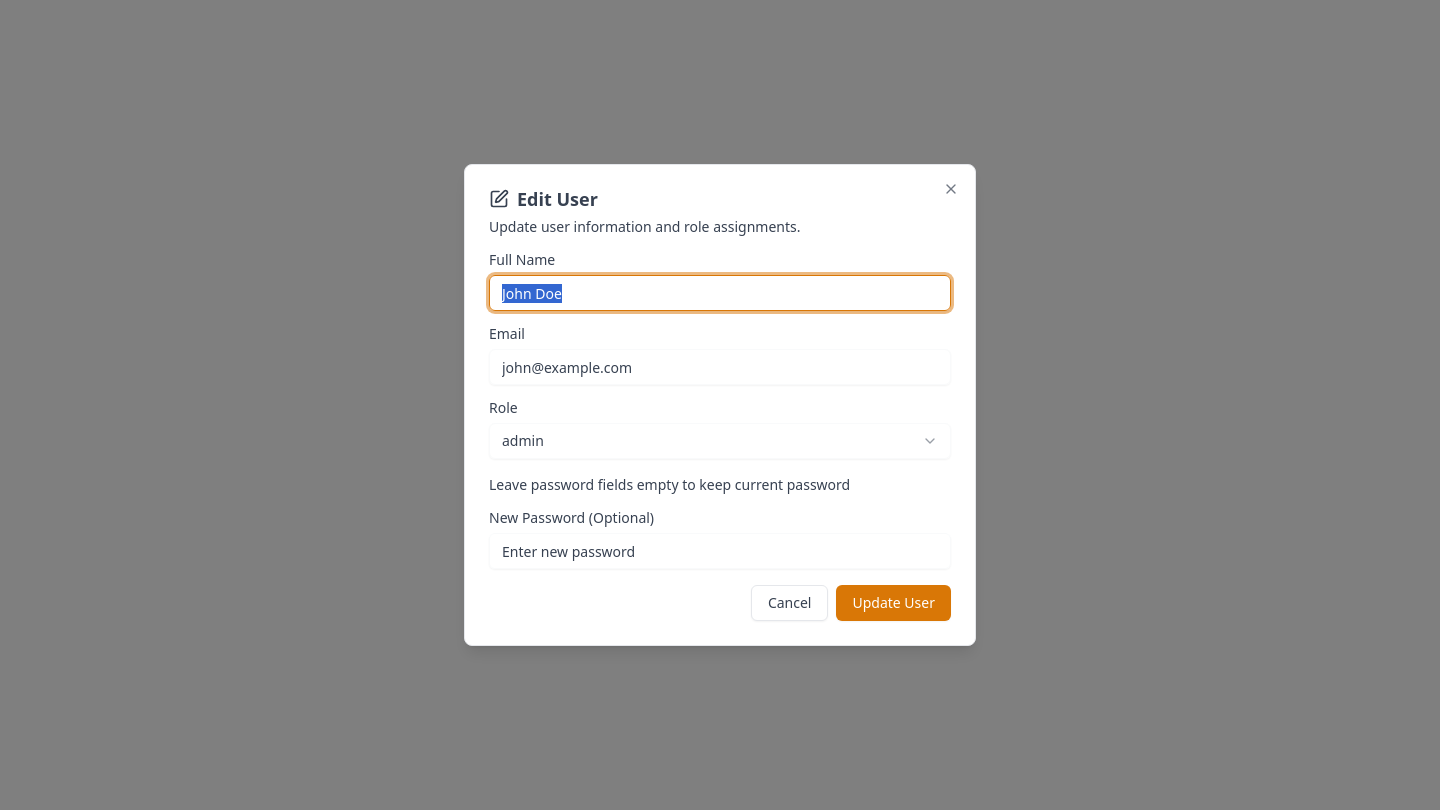
it: EditUserModal Component › validates required fields
Clear the field showing "John Doe" at [720, 293], box [489,275,951,311]
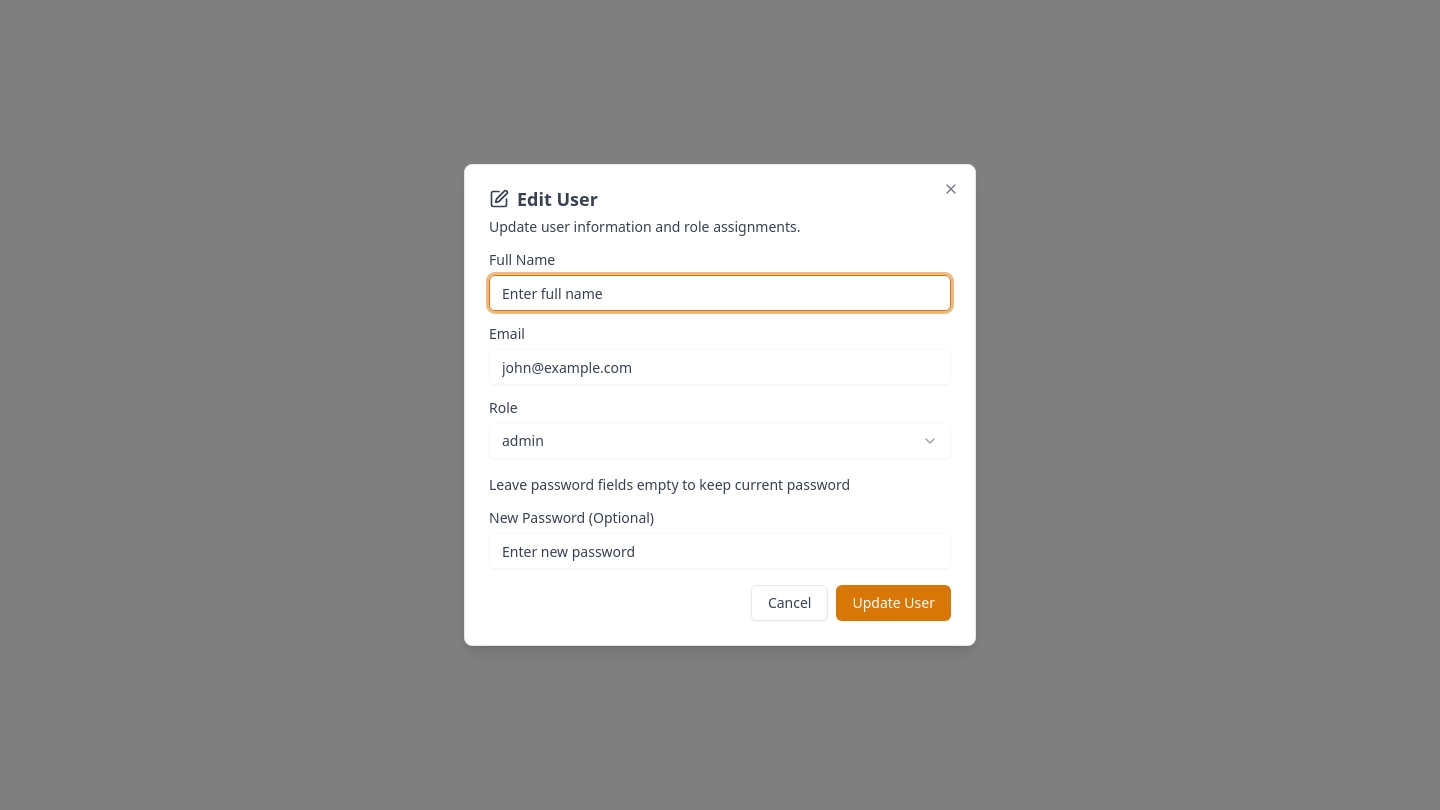
Clear the field showing "john@example.com" at [720, 367], box [489,349,951,385]
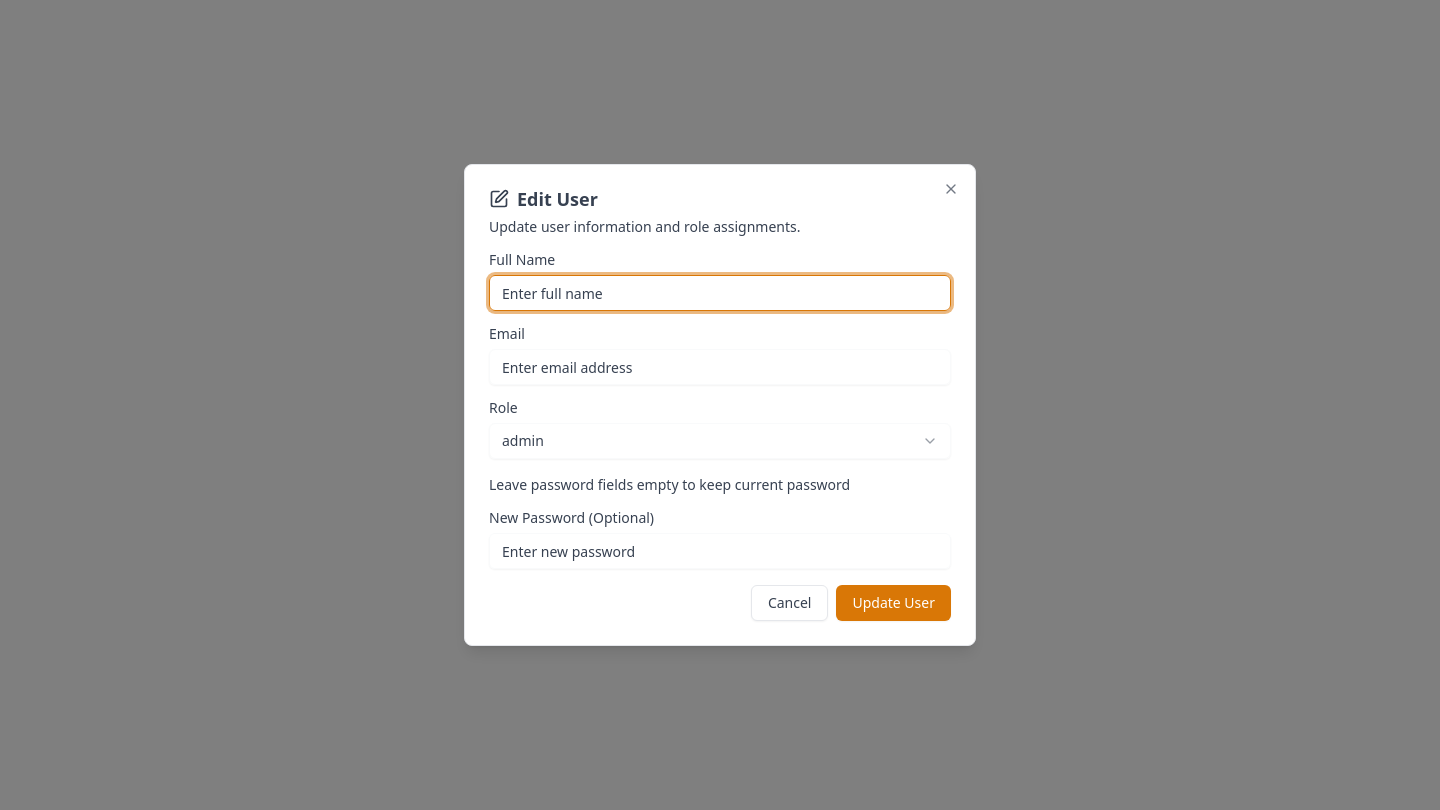
Click the button "Update User" at [894, 603], box [836,585,951,621]
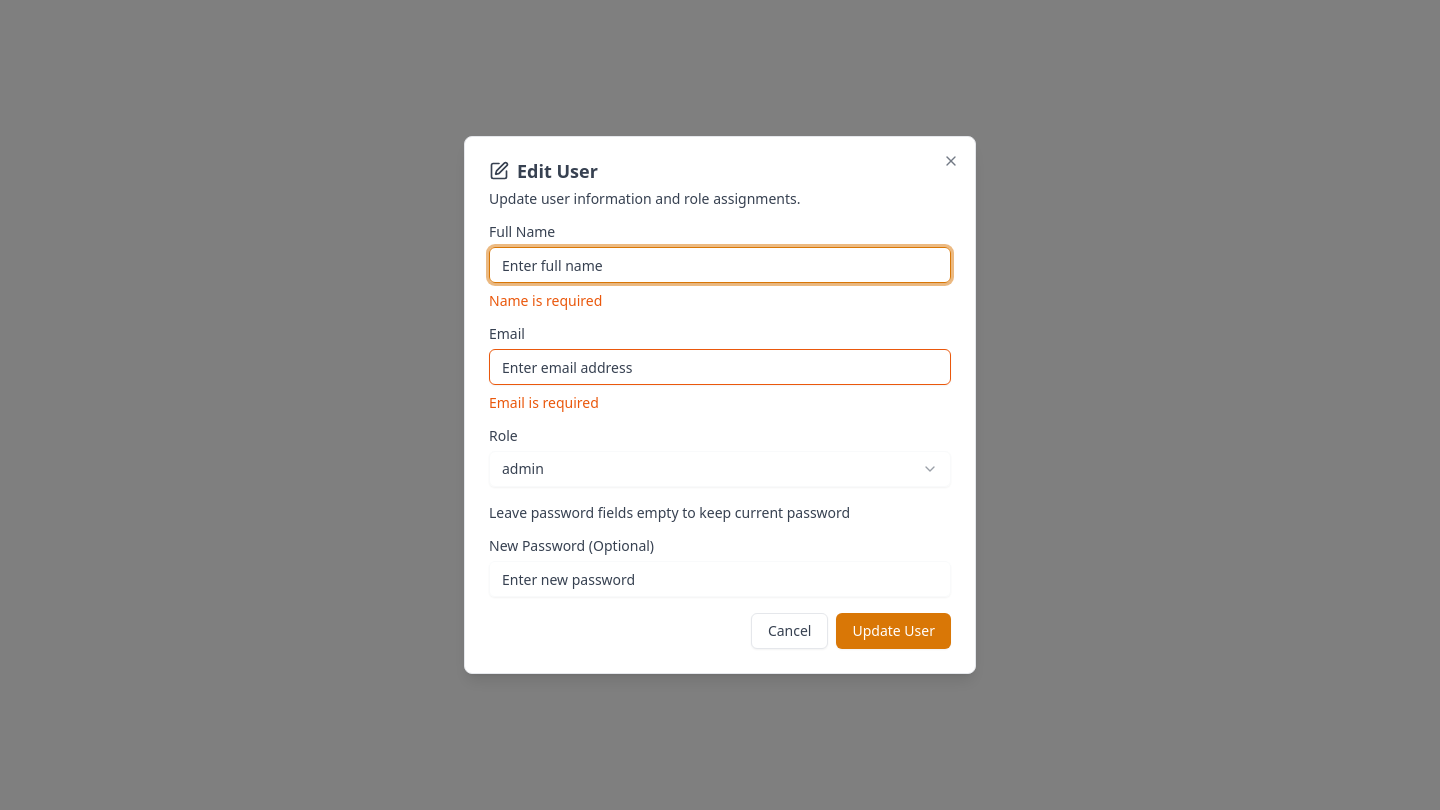
expect the text "Name is required" is shown: met, box [489,291,602,310]
expect the text "Email is required" is shown: met, box [489,393,599,412]
